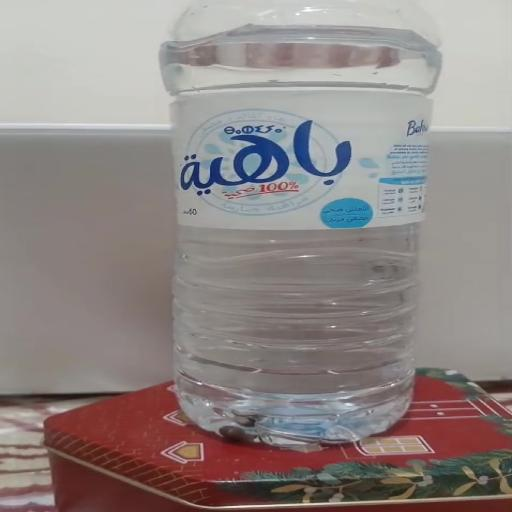bouteille conformite: (134, 12, 452, 453)
